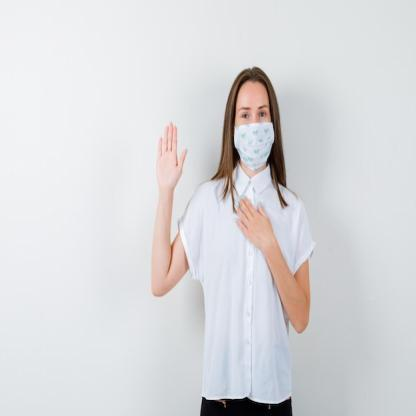stop: (154, 118, 190, 198)
